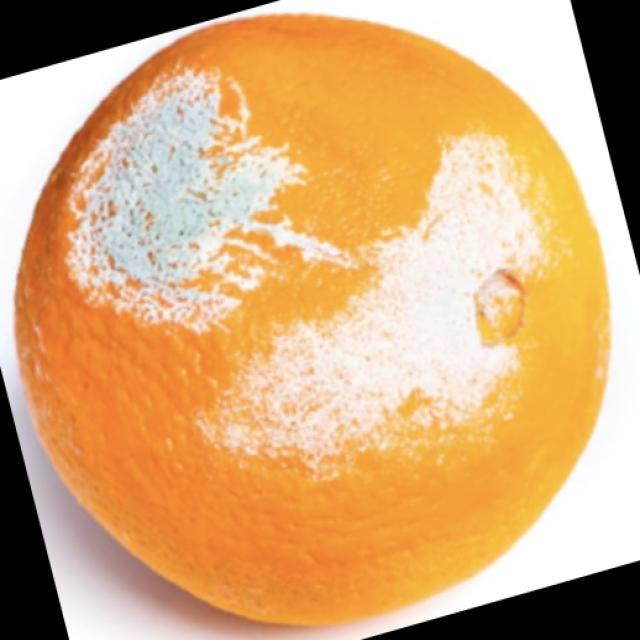sedikit-busuk: (17, 14, 610, 624), (220, 135, 543, 466), (66, 70, 301, 330)
